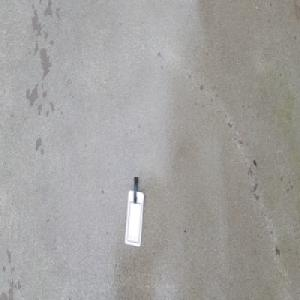LuggageTag: (123, 174, 144, 246)
